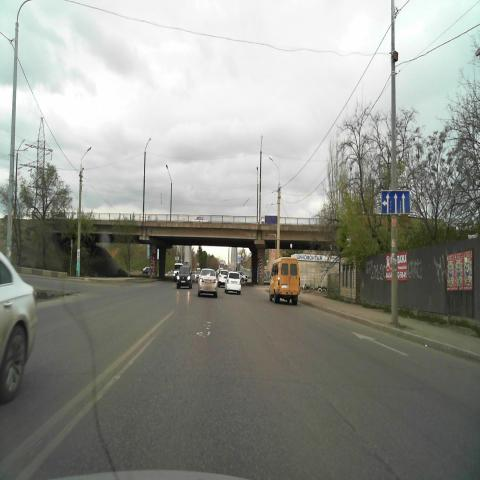5_15_1: (381, 189, 411, 214)
